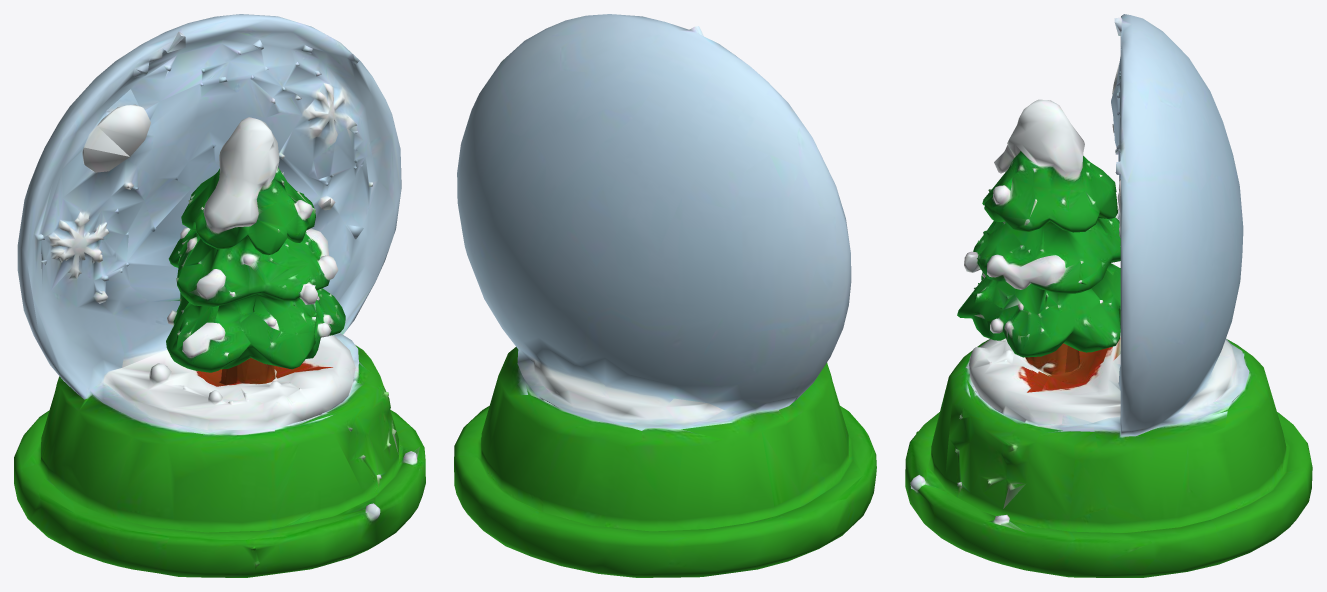
Rendered from snow_globe.glb.
The picture shows the model from 3 angles, left to right: view 1: azimuth 30°, elevation 25°; view 2: azimuth 150°, elevation 25°; view 3: azimuth 270°, elevation 25°; orthographic projection. The views are drawn at different scales.
Visible parts, largest first — view 1: tripo_node_d31deb66-9629-4153-bac8-3c1f9363b05d; view 2: tripo_node_d31deb66-9629-4153-bac8-3c1f9363b05d; view 3: tripo_node_d31deb66-9629-4153-bac8-3c1f9363b05d.
Boxes of the visible parts, box(x1,y1,x2,y2) form: tripo_node_d31deb66-9629-4153-bac8-3c1f9363b05d: box(14, 14, 425, 577); tripo_node_d31deb66-9629-4153-bac8-3c1f9363b05d: box(454, 14, 876, 577); tripo_node_d31deb66-9629-4153-bac8-3c1f9363b05d: box(905, 14, 1312, 577).
Bounding box in the file's own units: 0.8273 × 0.9796 × 0.7808.
Materials: 1 (1 with a texture image).
